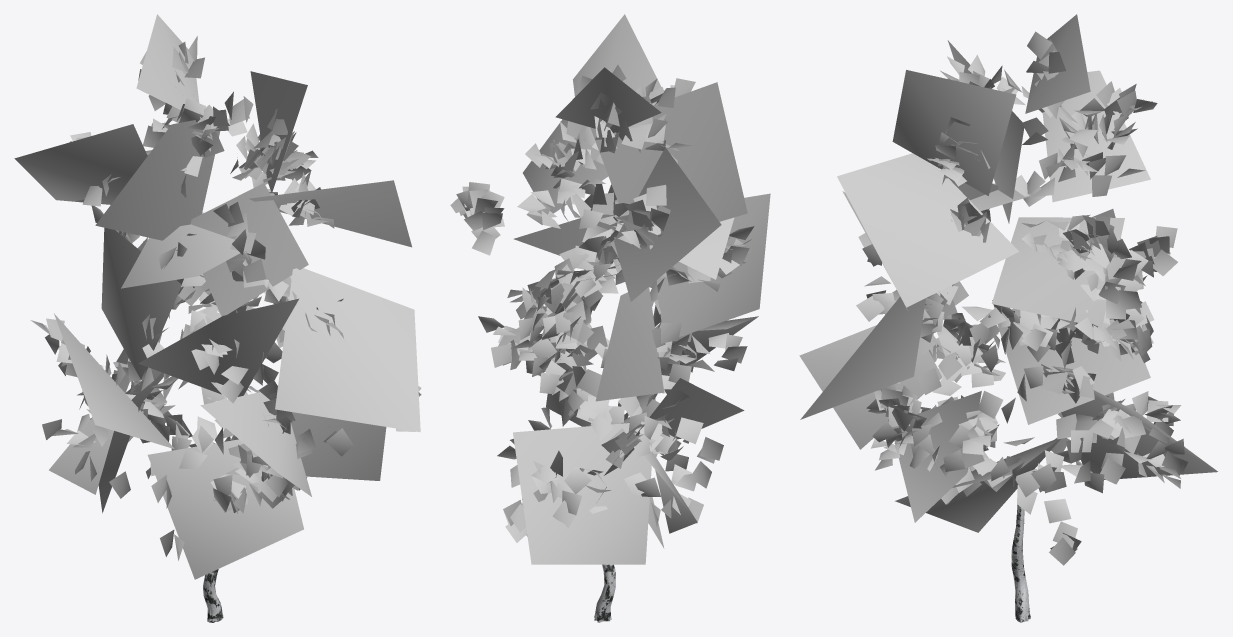
Rendered from 00734 _Birch 03 2 lod2.FBX.
3 renders of one model, left to right at view 1: azimuth 30°, elevation 25°; view 2: azimuth 150°, elevation 25°; view 3: azimuth 270°, elevation 25°, orthographic. The views are drawn at different scales.
Parts seen in each view (by area): view 1: 00734 _Birch 03 004; view 2: 00734 _Birch 03 004; view 3: 00734 _Birch 03 004.
Part boxes in pixels (x1,y1,x2,y2): 00734 _Birch 03 004: (14,14,421,622); 00734 _Birch 03 004: (450,14,770,622); 00734 _Birch 03 004: (799,14,1217,622).
Bounding box in the file's own units: 4.16 × 7.67 × 4.94.
